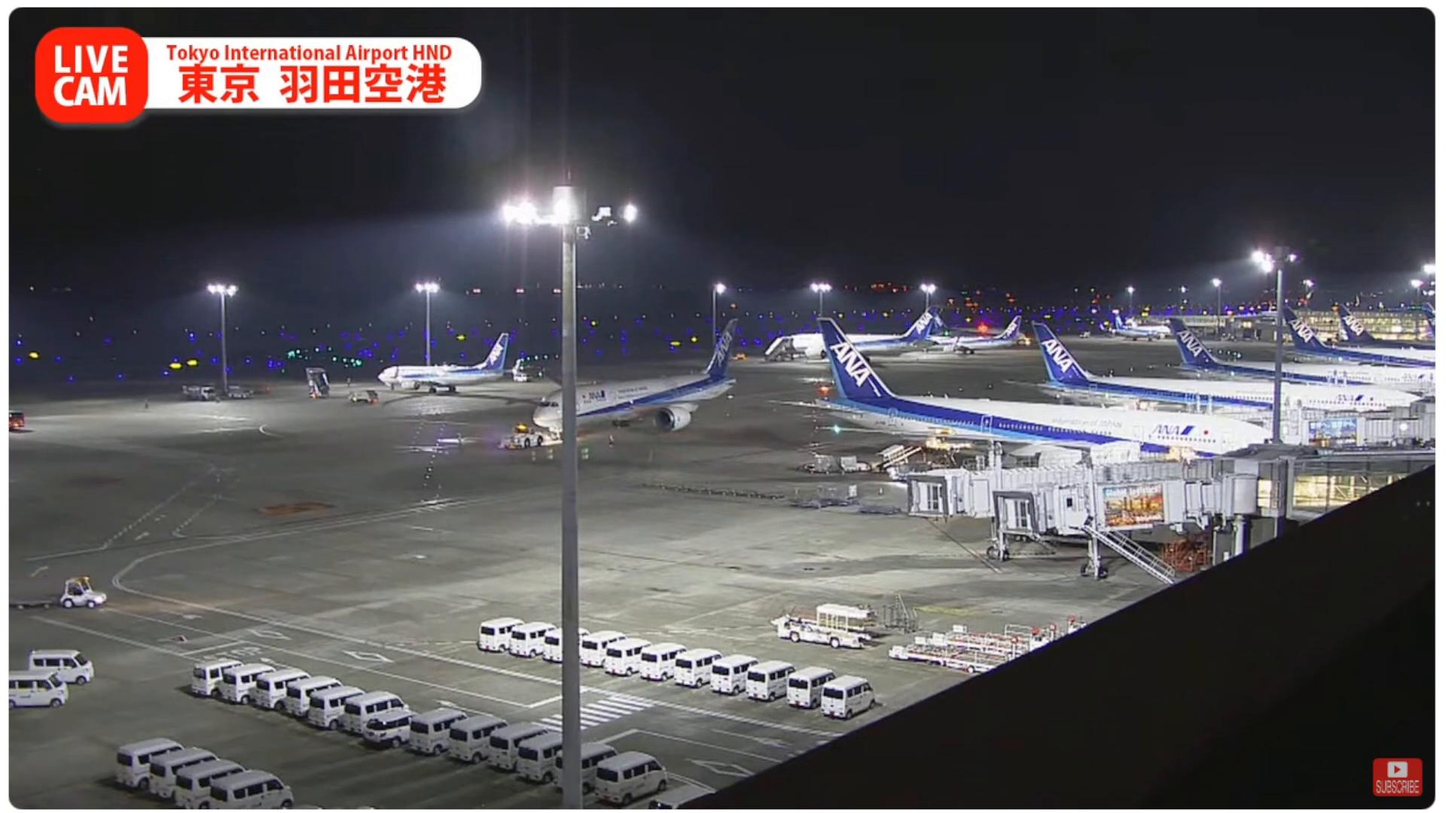APS: (500, 423, 562, 448)
Aerobridge: (905, 456, 1224, 518), (989, 475, 1256, 533)
Airplane: (533, 316, 738, 439)
JCPL: (912, 624, 1048, 657), (889, 640, 1014, 673), (747, 584, 750, 584)
Skyloader: (771, 601, 875, 650)
Window: (1290, 455, 1437, 521)
